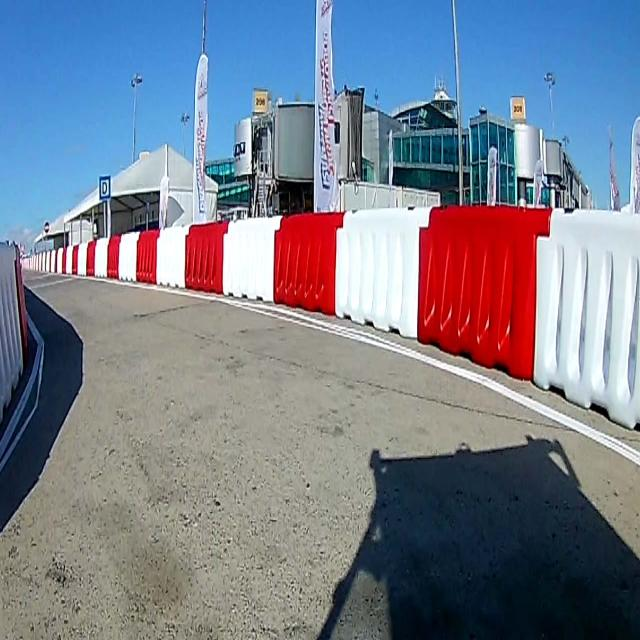durak: (99, 175, 111, 200)
